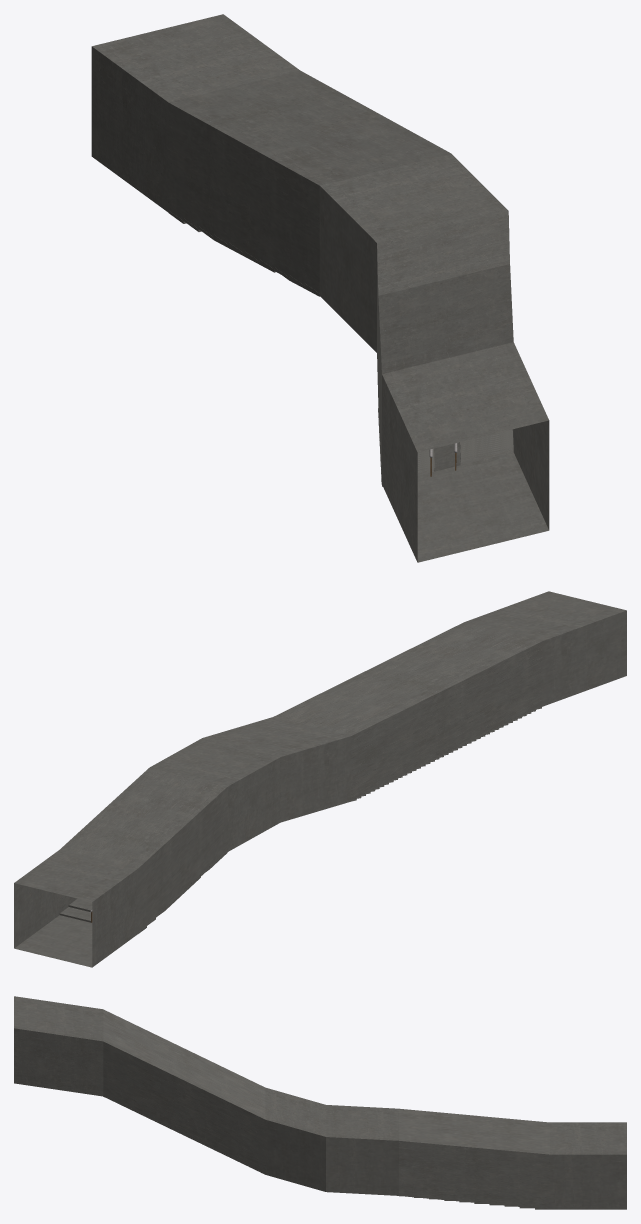
3 views of the same model, one above another, from view 1: azimuth 30°, elevation 25°; view 2: azimuth 150°, elevation 25°; view 3: azimuth 270°, elevation 25° (orthographic). The views are drawn at different scales.
Parts seen in each view (by area): view 1: Walls_Cube.003, Staircase3_Cube.001; view 2: Walls_Cube.003, Staircase4_Cube.015, Staircase1_Cube.004; view 3: Walls_Cube.003.
Part boxes in pixels (x1,y1,x2,y2): Walls_Cube.003: (91,14,549,562); Staircase3_Cube.001: (460,429,513,464); Walls_Cube.003: (14,591,626,967); Staircase4_Cube.015: (351,707,541,801); Staircase1_Cube.004: (59,898,92,922); Walls_Cube.003: (14,996,626,1209).
Size of the model in its own units: 15.9 by 8.09 by 40.31.
Materials: 3 (3 with a texture image).
